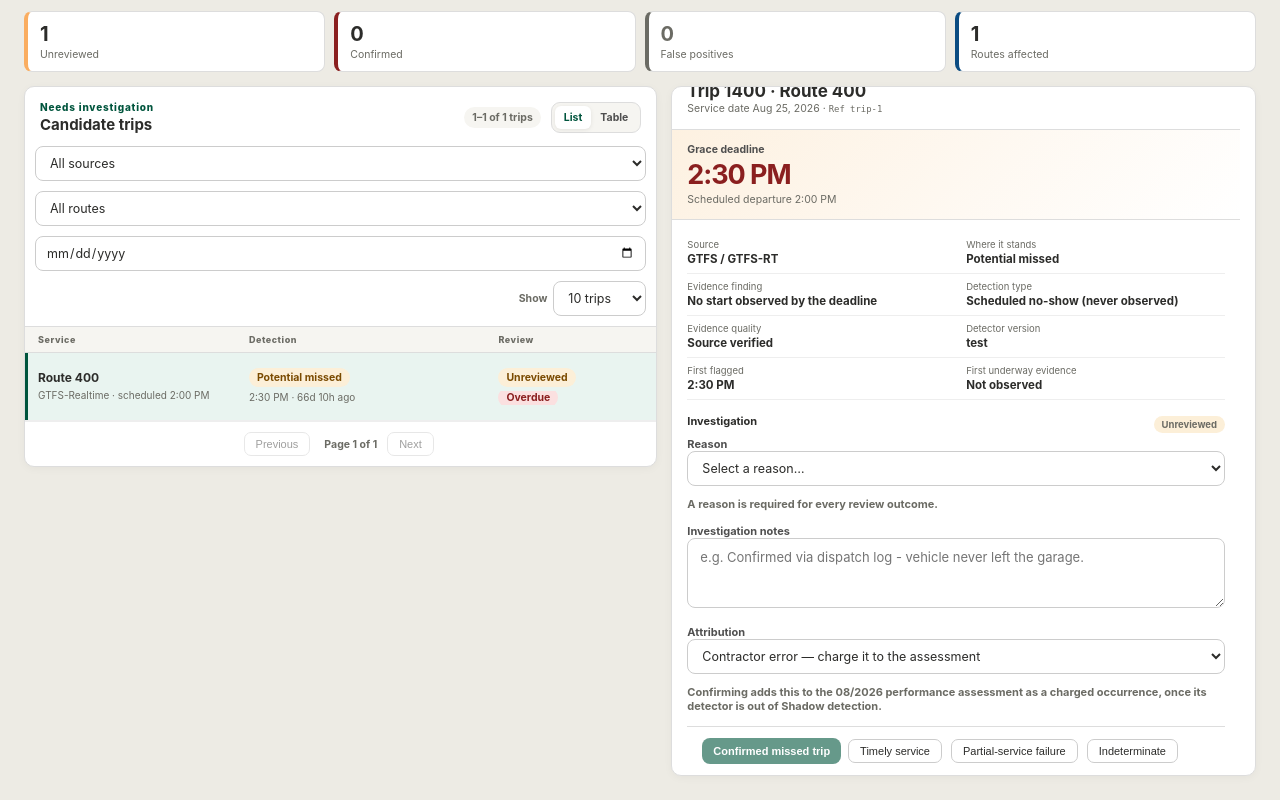
Test case: confirming a missed trip lands it in the month's assessment › asks whose error it was at the same sitting as the review
(page scrolled)
Check: the text "adds this to the 08/2026 performance assessment" is shown, box [687,685,1207,713]
Select "Excusable delay — record it, do not charge" in the dropdown labelled "Attribution": (956, 657) [687,639,1225,674]
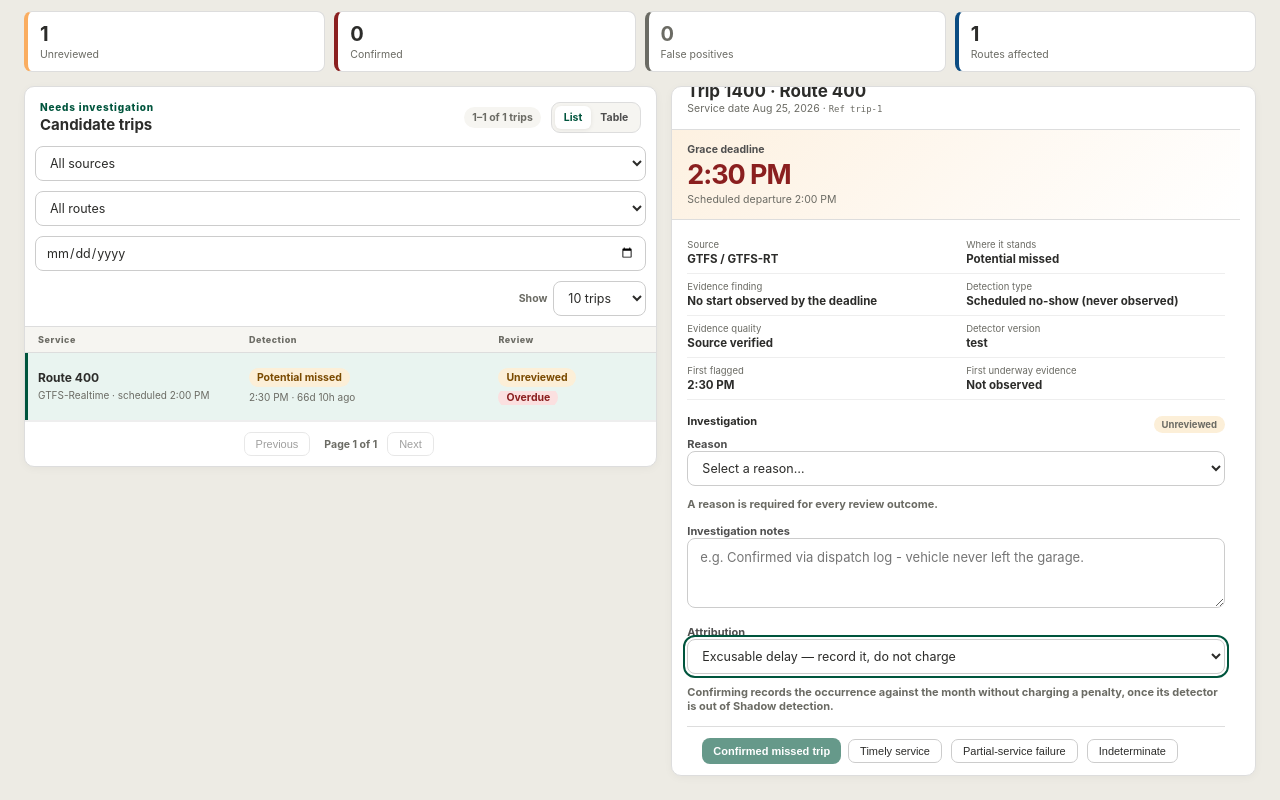
Check: the text "records the occurrence against the month without charging" is shown, box [687,685,1218,713]
